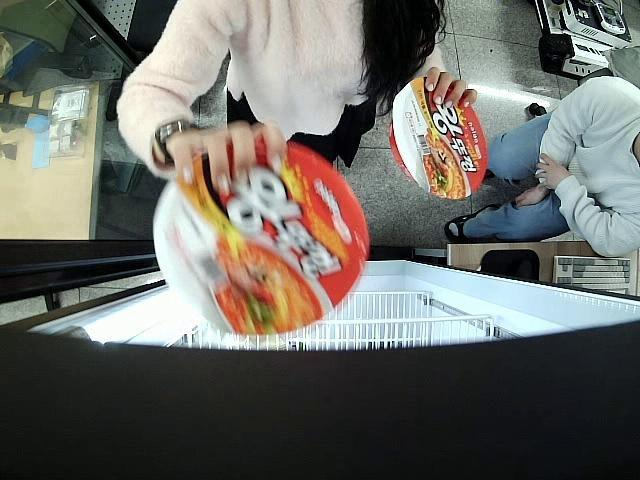10_wangTtukkeong: (153, 136, 370, 340), (388, 77, 488, 200)
